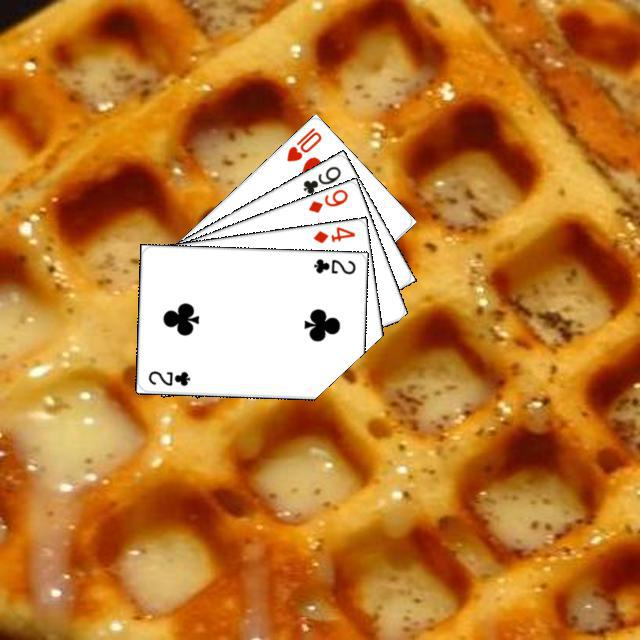10h: (281, 122, 323, 163)
2c: (143, 366, 192, 388), (309, 254, 357, 276)
4d: (308, 222, 357, 245)
9c: (298, 161, 343, 196)
9d: (303, 184, 350, 215)
